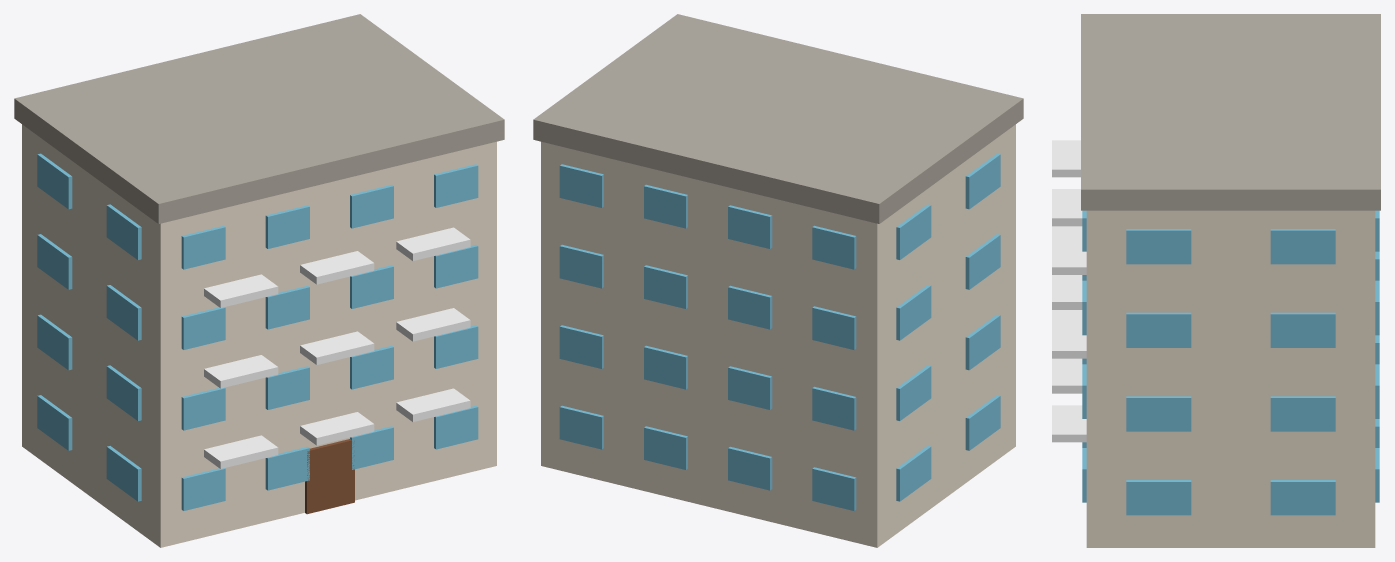
The model's file is apartment.glb.
3 renders of one model, left to right at view 1: azimuth 30°, elevation 25°; view 2: azimuth 150°, elevation 25°; view 3: azimuth 270°, elevation 25°, orthographic. The views are drawn at different scales.
Parts seen in each view (by area): view 1: apartment_wall_cream, apartment_roof_flat, apartment_window, apartment_white, apartment_door; view 2: apartment_wall_cream, apartment_roof_flat, apartment_window; view 3: apartment_wall_cream, apartment_roof_flat, apartment_window, apartment_white.
Part boxes in pixels (x1=…): apartment_wall_cream: x1=22, y1=124, x2=496, y2=547; apartment_roof_flat: x1=14, y1=14, x2=504, y2=223; apartment_window: x1=37, y1=153, x2=478, y2=510; apartment_white: x1=204, y1=227, x2=470, y2=468; apartment_door: x1=305, y1=439, x2=354, y2=514; apartment_wall_cream: x1=541, y1=124, x2=1015, y2=547; apartment_roof_flat: x1=533, y1=14, x2=1023, y2=223; apartment_window: x1=559, y1=153, x2=1000, y2=510; apartment_wall_cream: x1=1086, y1=210, x2=1375, y2=547; apartment_roof_flat: x1=1081, y1=14, x2=1380, y2=210; apartment_window: x1=1082, y1=210, x2=1379, y2=515; apartment_white: x1=1052, y1=140, x2=1086, y2=442.
Bounding box in the file's own units: 14.4 × 13.8 × 11.4.
